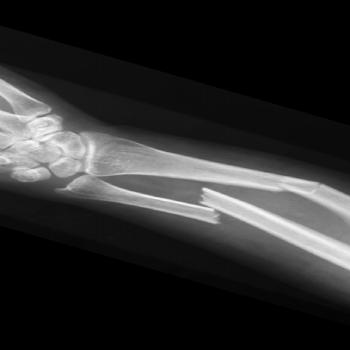Fracture: (182, 182, 227, 233), (294, 170, 336, 206)
